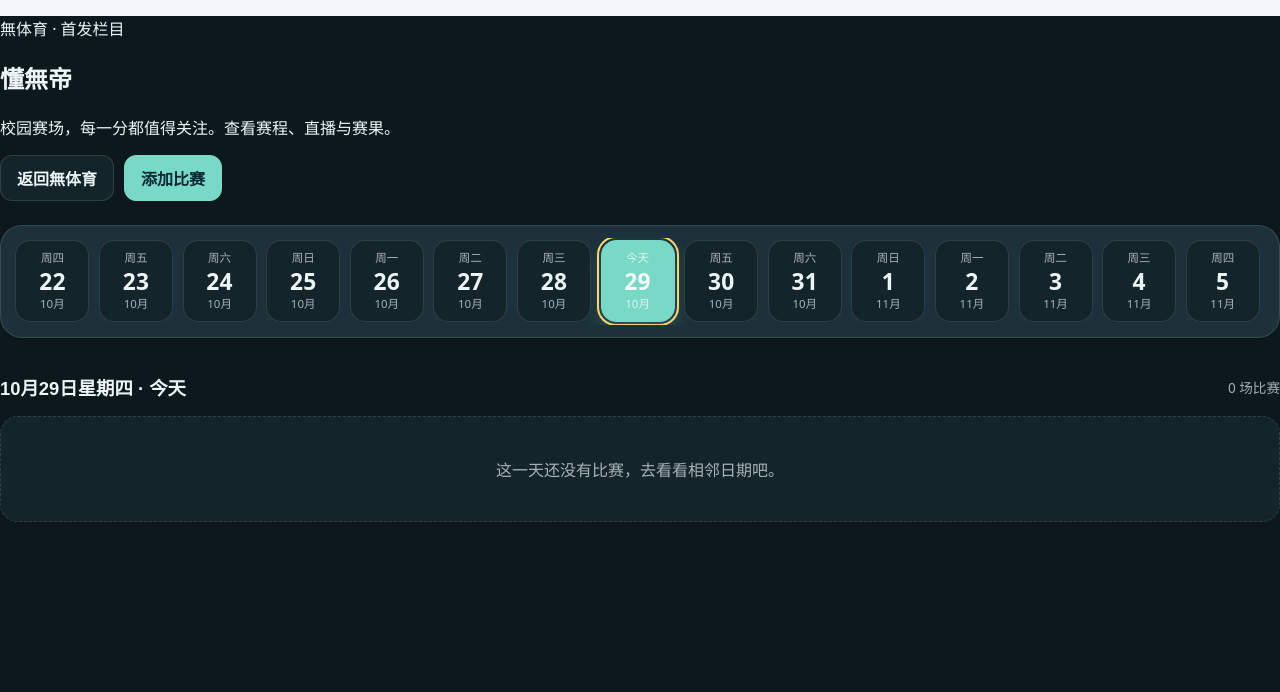
Scenario: SportsMatchesPage › shows the date timeline and creation entry for a sports member
The width and height of the screenshot is (1280, 692).
Expected: the heading "懂無帝" is shown, [0,62,72,95]
Expected: the list named "所选日期的比赛时间线" is shown, [0,416,1279,538]
Click the button "添加比赛". click: (173, 178)
box: [124,155,222,201]
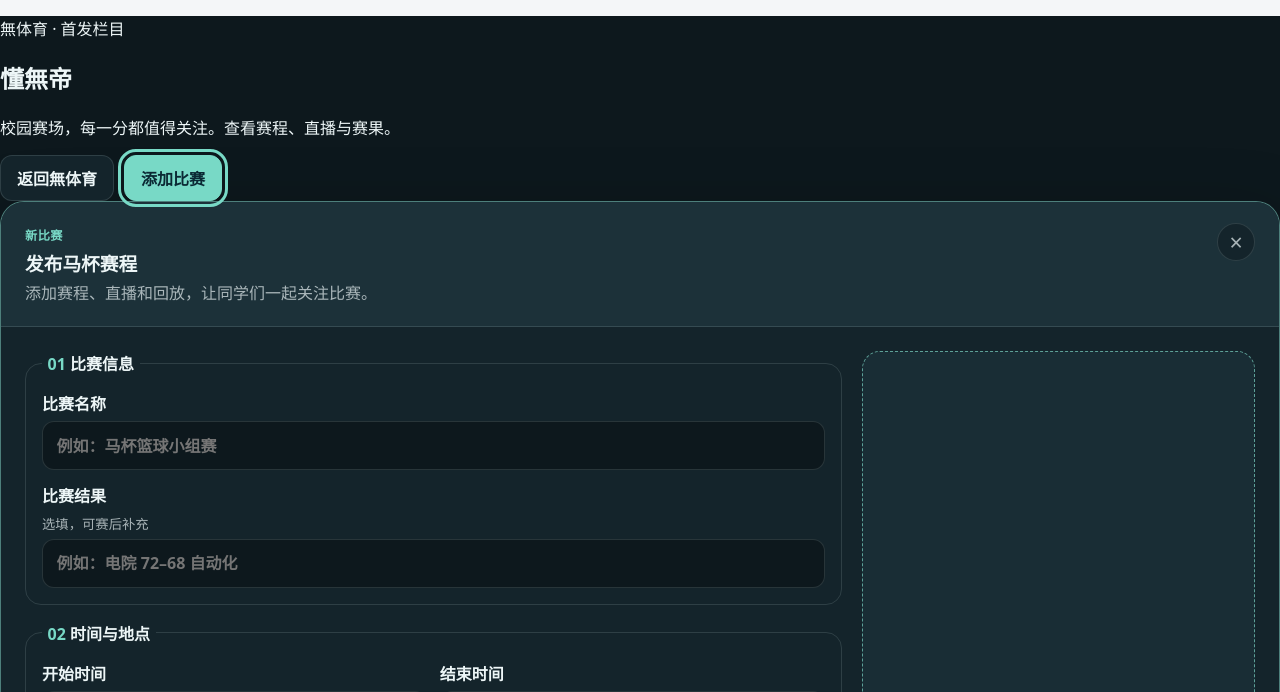
Expected: the element "01 比赛信息 比赛名称 比赛结果 选填，可赛后补充" is shown, [25,351,842,605]
Expected: the field labelled "比赛结果 选填，可赛后补充" is shown, [42,539,825,588]
